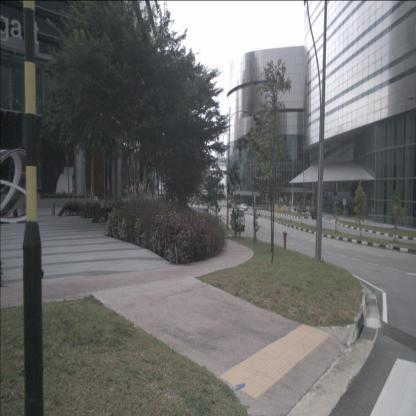vehicle-car: (231, 209, 245, 232), (240, 203, 248, 211)
